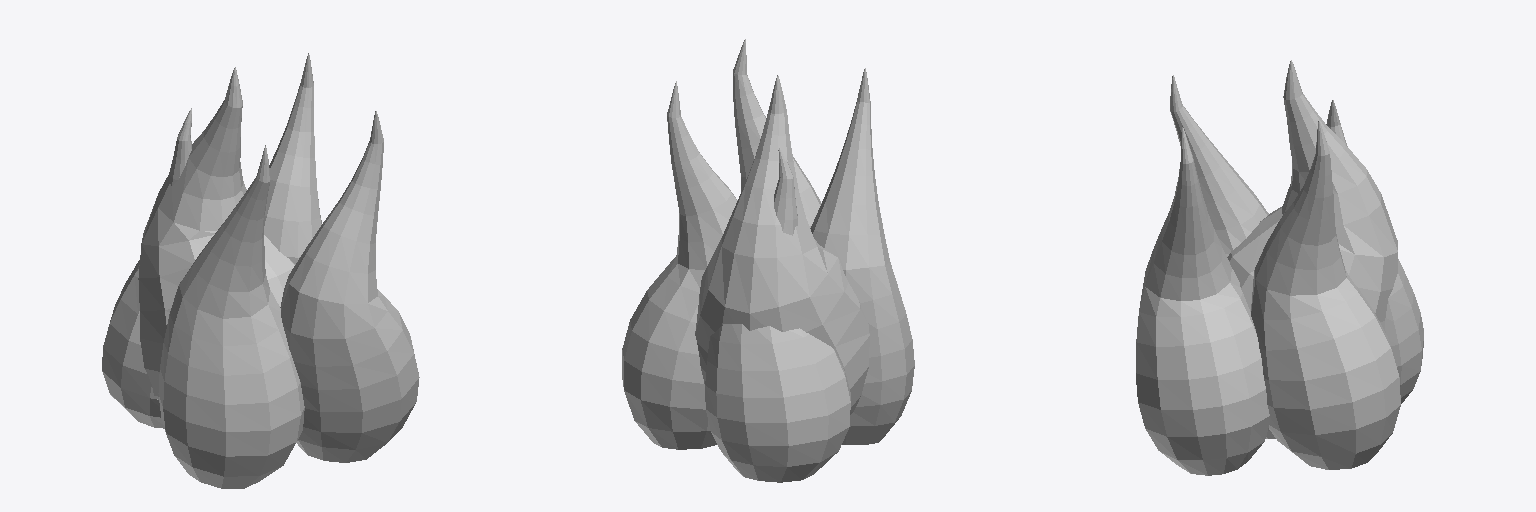
File: fire_000021.obj
The picture shows the model from 3 angles: view 1: azimuth 30°, elevation 25°; view 2: azimuth 150°, elevation 25°; view 3: azimuth 270°, elevation 25°; orthographic projection.
Visible parts, largest first — view 1: flame_NurbsPath.015; view 2: flame_NurbsPath.015; view 3: flame_NurbsPath.015.
Boxes of the visible parts, box(x1,y1,x2,y2) form: flame_NurbsPath.015: box(102, 53, 419, 488); flame_NurbsPath.015: box(622, 39, 914, 482); flame_NurbsPath.015: box(1136, 60, 1423, 475).
Size of the model in its own units: 0.7525 by 1.18 by 0.8127.